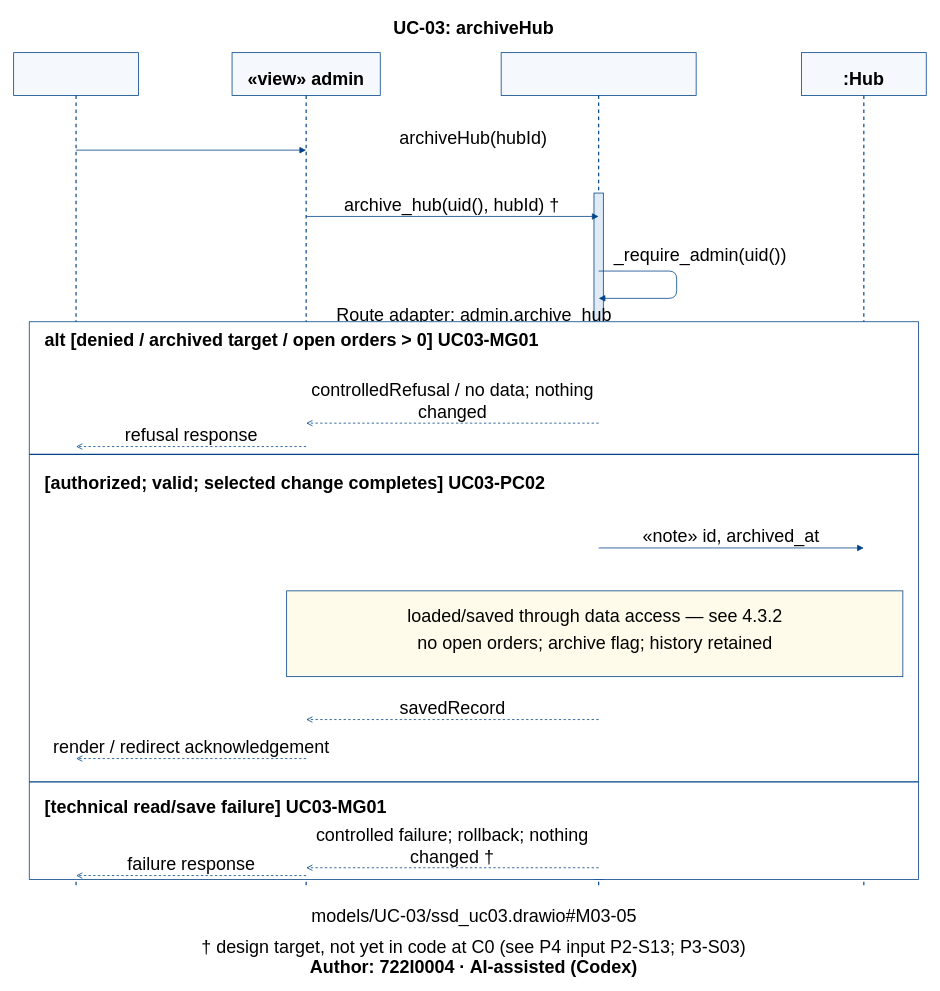
The diagram is 940 pixels wide and 991 high, and some of its shapes have lost their labels. The shapes that lost their labels are listed below. From the top down, each one's centre as x and y in pixels, then its label:
the point at 75,74: Admin
the point at 598,74: :HubController
